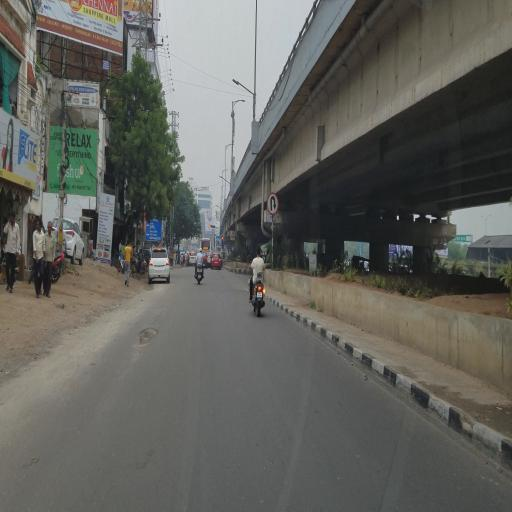street_light_0: (231, 69, 258, 99), (226, 86, 250, 112), (216, 168, 230, 194), (222, 132, 236, 150)
